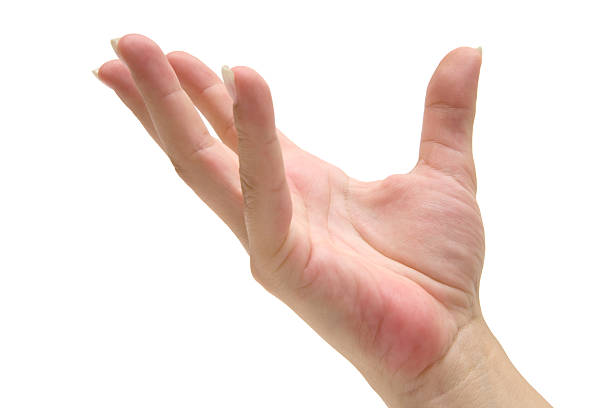hand: (53, 20, 552, 381)
